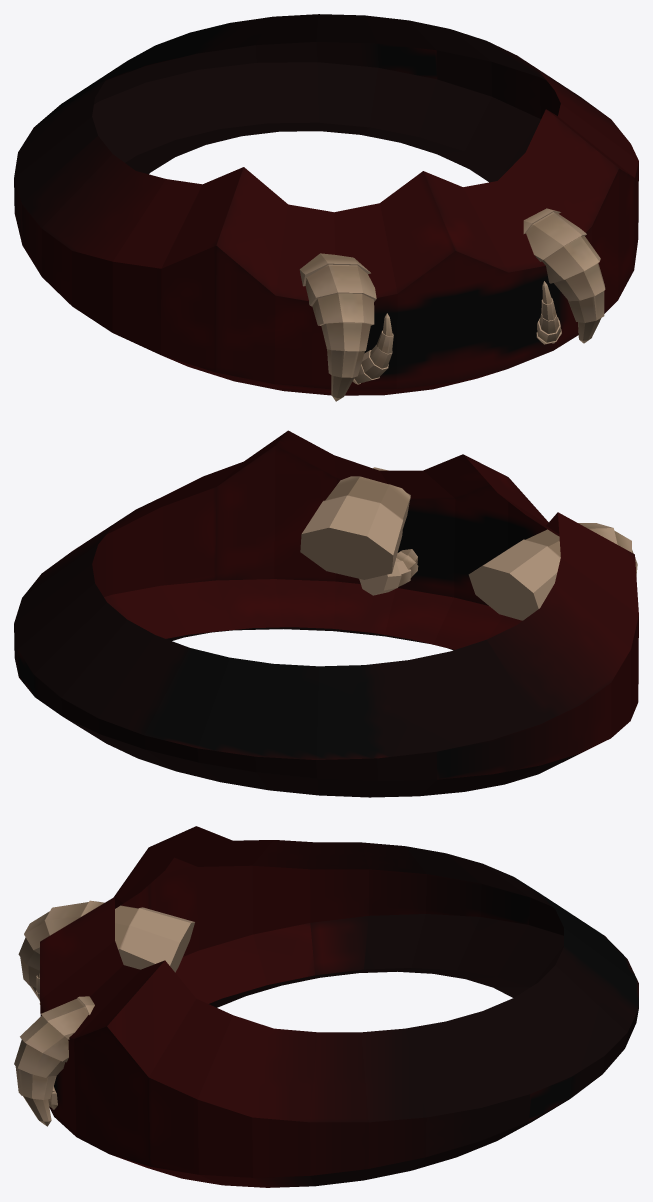
File: item-onimask.glb
3 renders of one model, top to bottom at view 1: azimuth 30°, elevation 25°; view 2: azimuth 150°, elevation 25°; view 3: azimuth 270°, elevation 25°, orthographic. The views are drawn at different scales.
Size of the model in its own units: 4.06 by 1.55 by 4.24.
2 materials, 2 textured.
